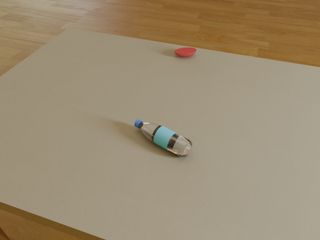bottle: (135, 119, 192, 158)
mouse: (175, 48, 196, 57)
